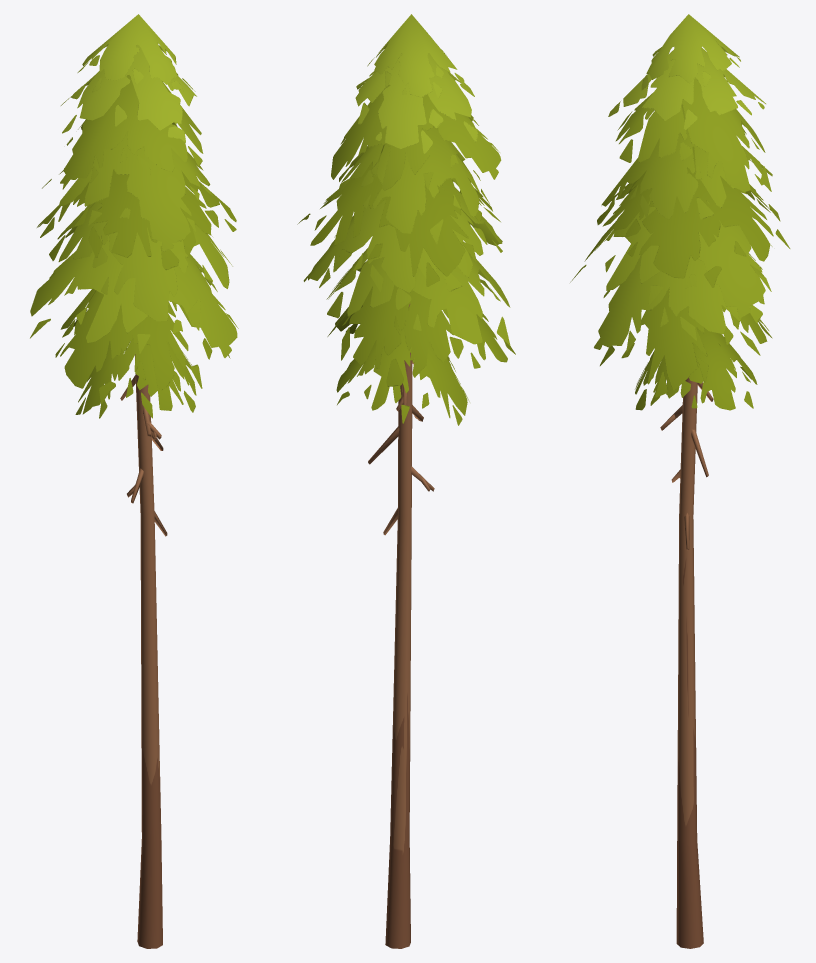
Rendered from lg_tall_tree_1.fbx.
3 views of the same model, side by side, from view 1: azimuth 30°, elevation 25°; view 2: azimuth 150°, elevation 25°; view 3: azimuth 270°, elevation 25° (orthographic).
Parts seen in each view (by area): view 1: lg_tall_tree_1_LOD00; view 2: lg_tall_tree_1_LOD00; view 3: lg_tall_tree_1_LOD00.
Part boxes in pixels (bbox=[...]): lg_tall_tree_1_LOD00: bbox=[30, 14, 238, 948]; lg_tall_tree_1_LOD00: bbox=[297, 14, 515, 948]; lg_tall_tree_1_LOD00: bbox=[570, 14, 790, 948].
Size of what is drawn, in the model's own units: 3.96 by 16.17 by 3.84.
